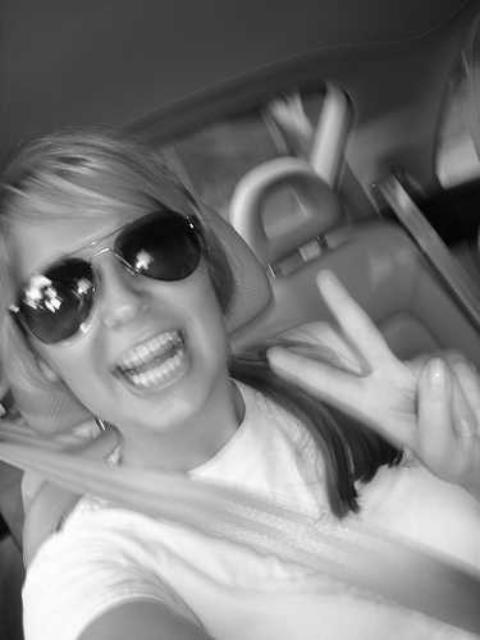Seatbelt: (0, 408, 476, 640)
